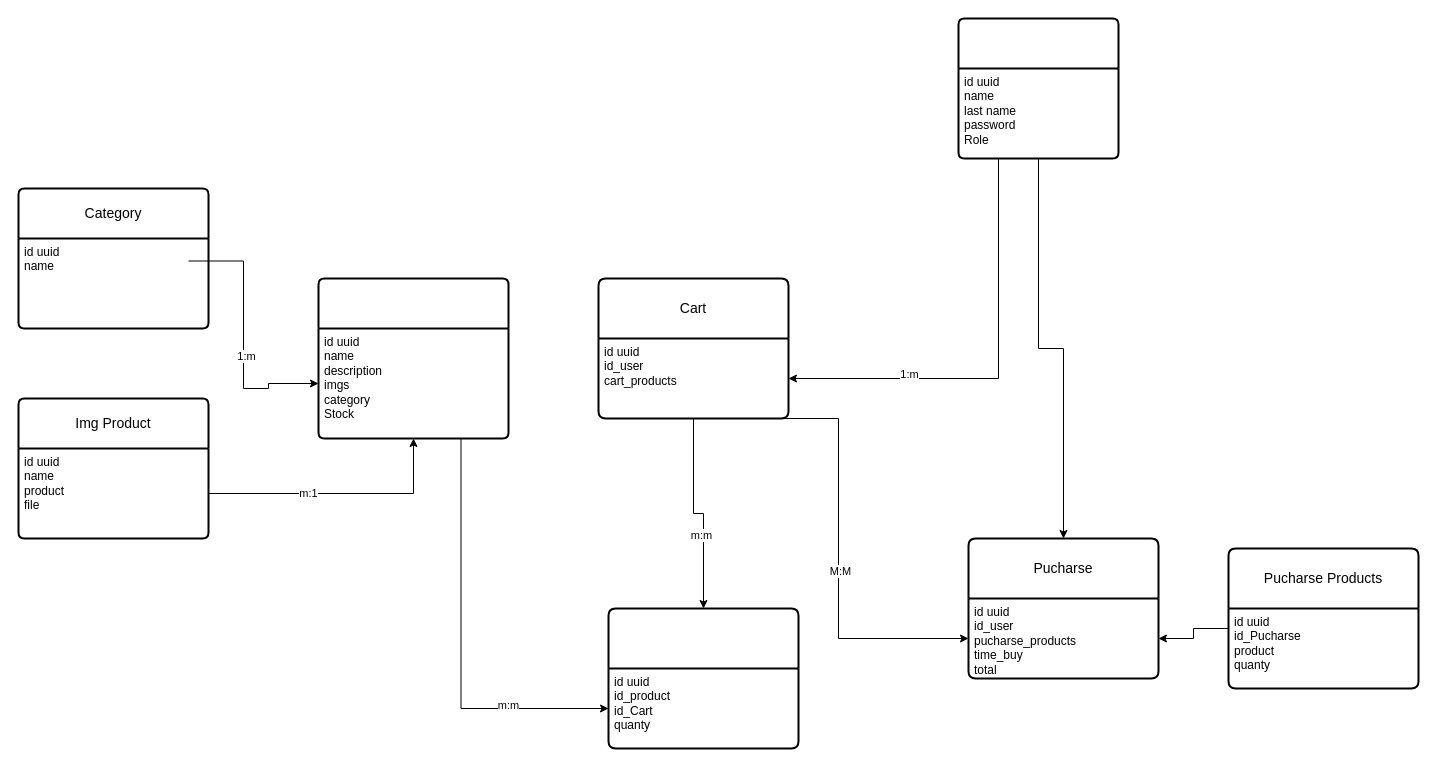
The diagram is 1436 pixels wide and 766 high, and some of its shapes have lost their labels. The box of each missing label's shape, as (x1, y1, x2, y2) in pixels:
Cart Products: (607, 607, 799, 749)
Product: (317, 277, 509, 439)
User: (957, 17, 1119, 159)
